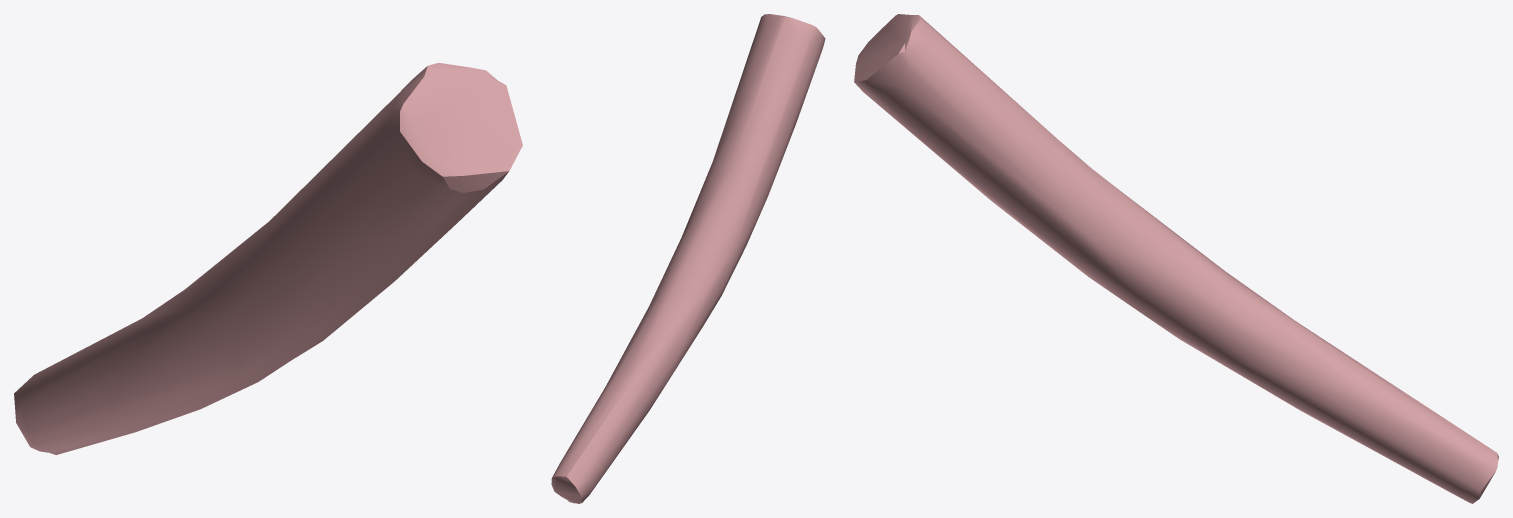
File: fma68591_fj6564.glb
The picture shows the model from 3 angles, left to right: view 1: azimuth 30°, elevation 25°; view 2: azimuth 150°, elevation 25°; view 3: azimuth 270°, elevation 25°; orthographic projection. The views are drawn at different scales.
Parts seen in each view (by area): view 1: FMA68591_FJ6564; view 2: FMA68591_FJ6564; view 3: FMA68591_FJ6564.
Part boxes in pixels (x1=…): FMA68591_FJ6564: x1=14, y1=62, x2=522, y2=454; FMA68591_FJ6564: x1=551, y1=14, x2=825, y2=503; FMA68591_FJ6564: x1=854, y1=14, x2=1498, y2=503.
Bounding box in the file's own units: 0.00208 × 0.011 × 0.0134.
